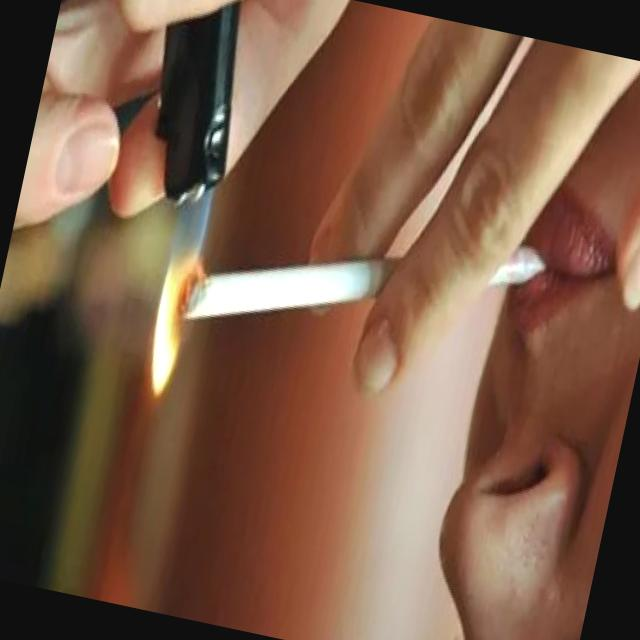cigarette: (168, 159, 556, 397)
